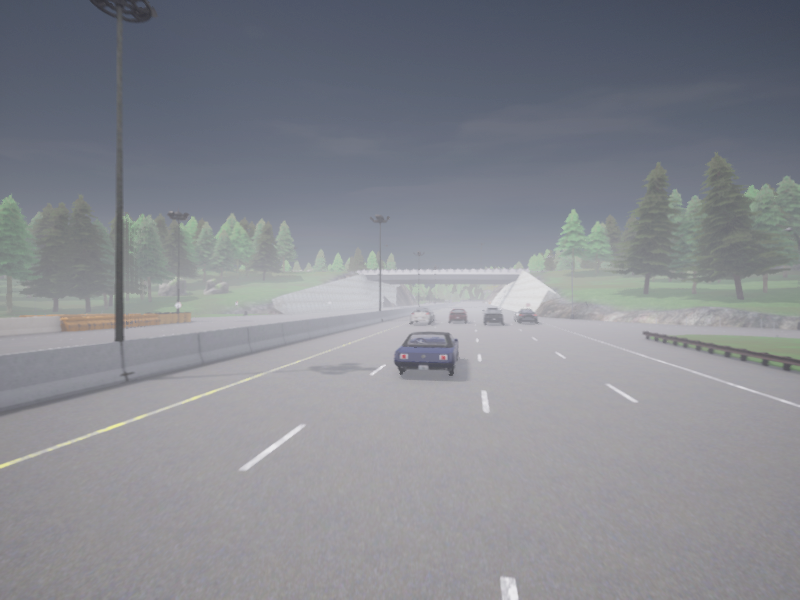vehicle: (394, 331, 457, 374), (410, 308, 434, 324), (514, 308, 537, 323), (482, 308, 503, 324), (449, 308, 467, 322)
